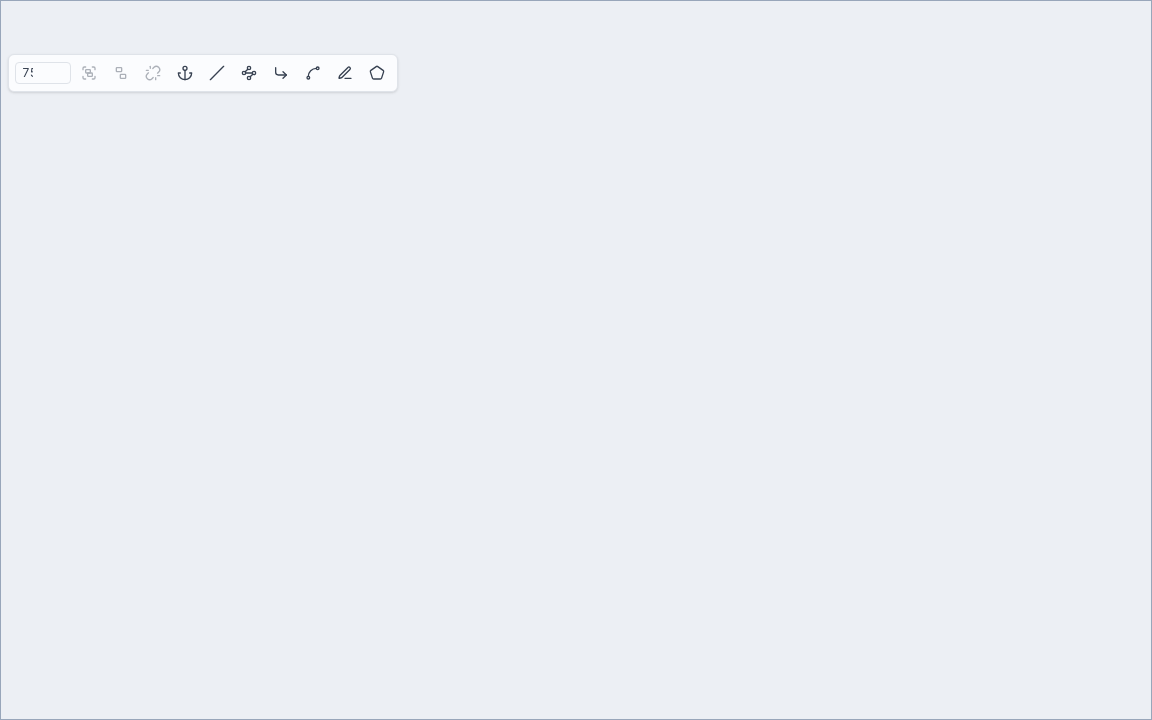
규칙이 걸린 그룹에서는 **먼저 묻는다** (AC-31 · REQ-05-c) › 거절하면 아무 일도 없고 확인이 사라진다
This screenshot has width=1152, height=720.
Press the mouse on the element with test id "canvas-edit-overlay" at (576, 360), box [0,0,1151,719]
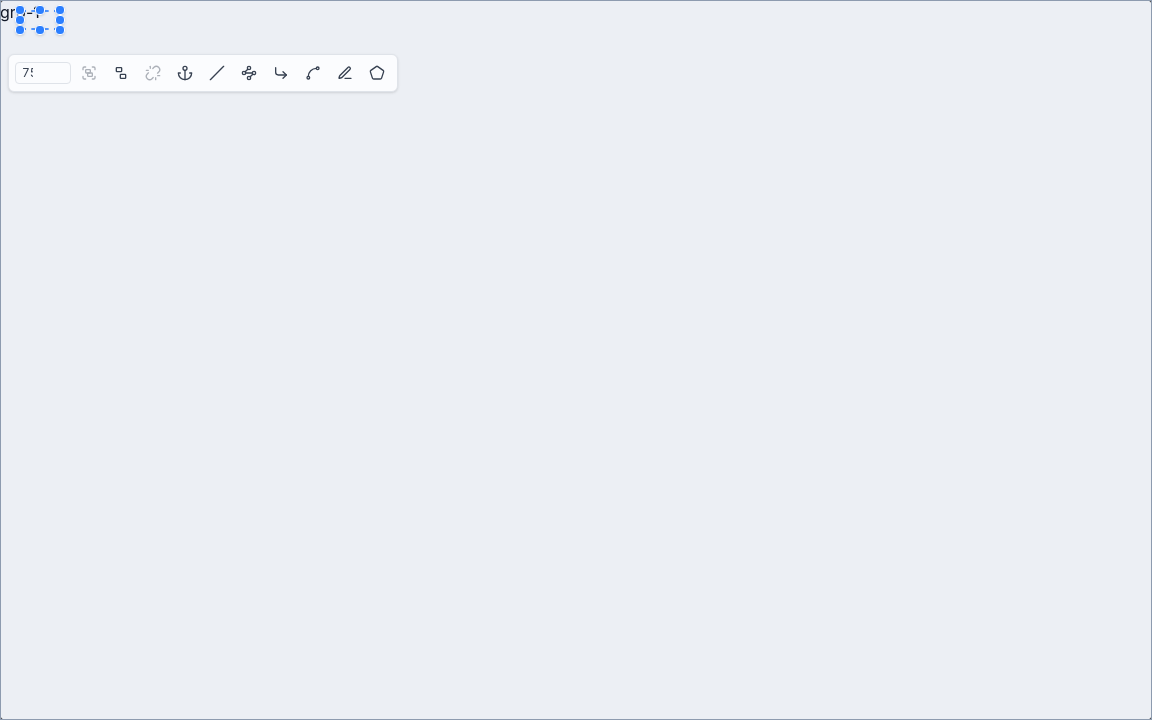
Press the mouse on the element with test id "canvas-edit-overlay" at (576, 360), box [0,0,1151,719]
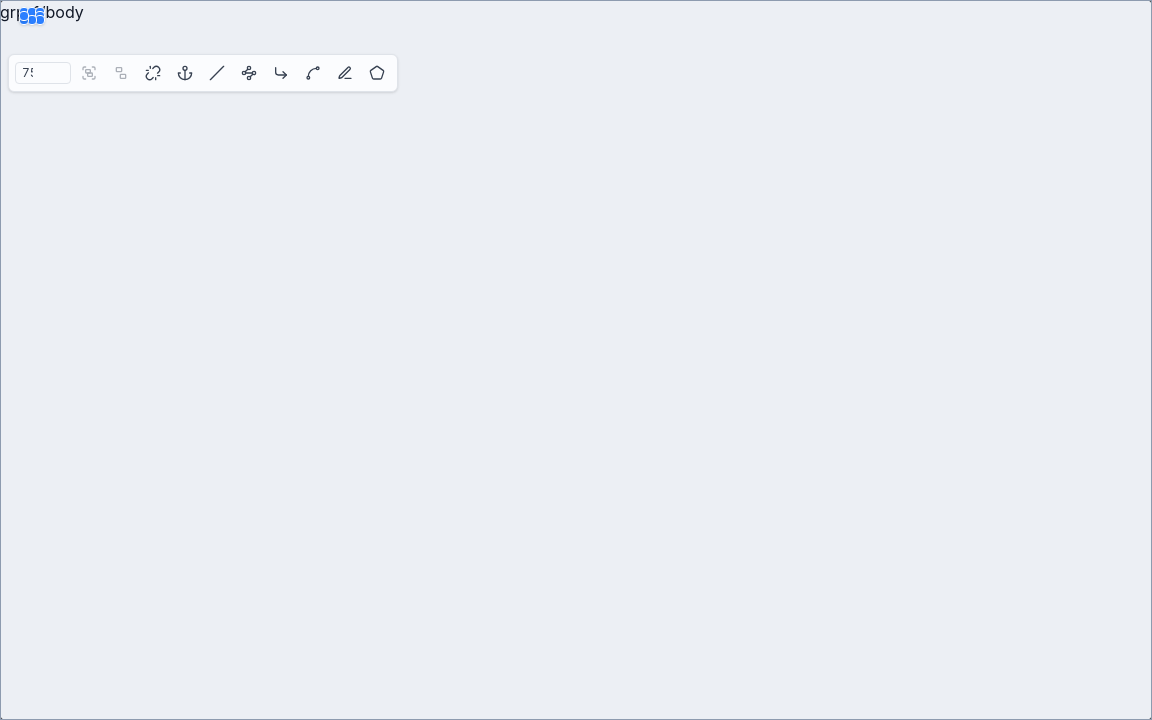
Click the button with test id "canvas-group-detach" at (153, 73), box [139,59,167,87]
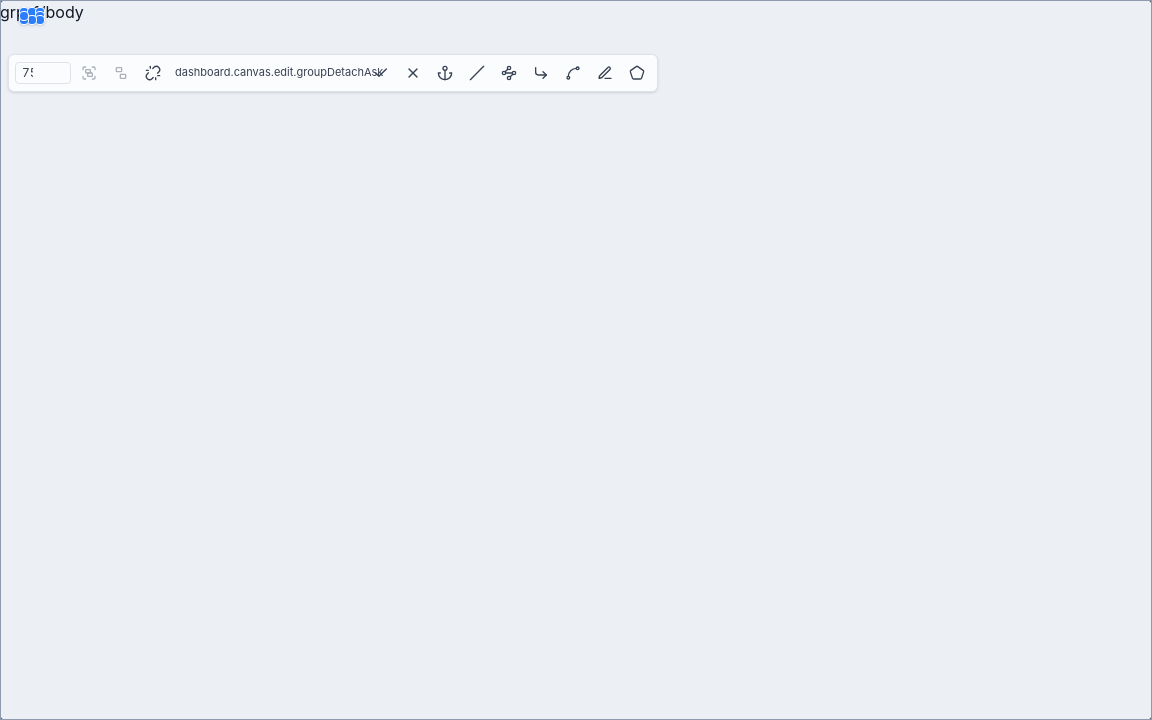
Click the button with test id "canvas-group-ungroup-no" at (413, 73), box [399,59,427,87]
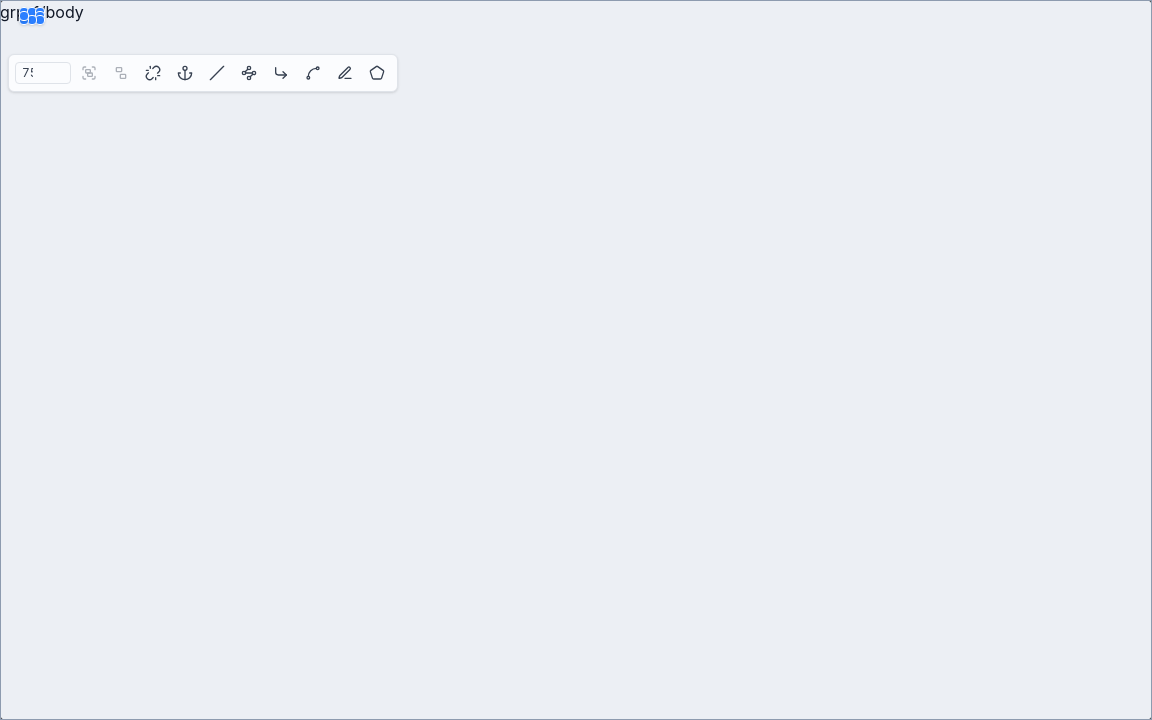
Expected: the message with test id "canvas-group-detach-ask" is gone
